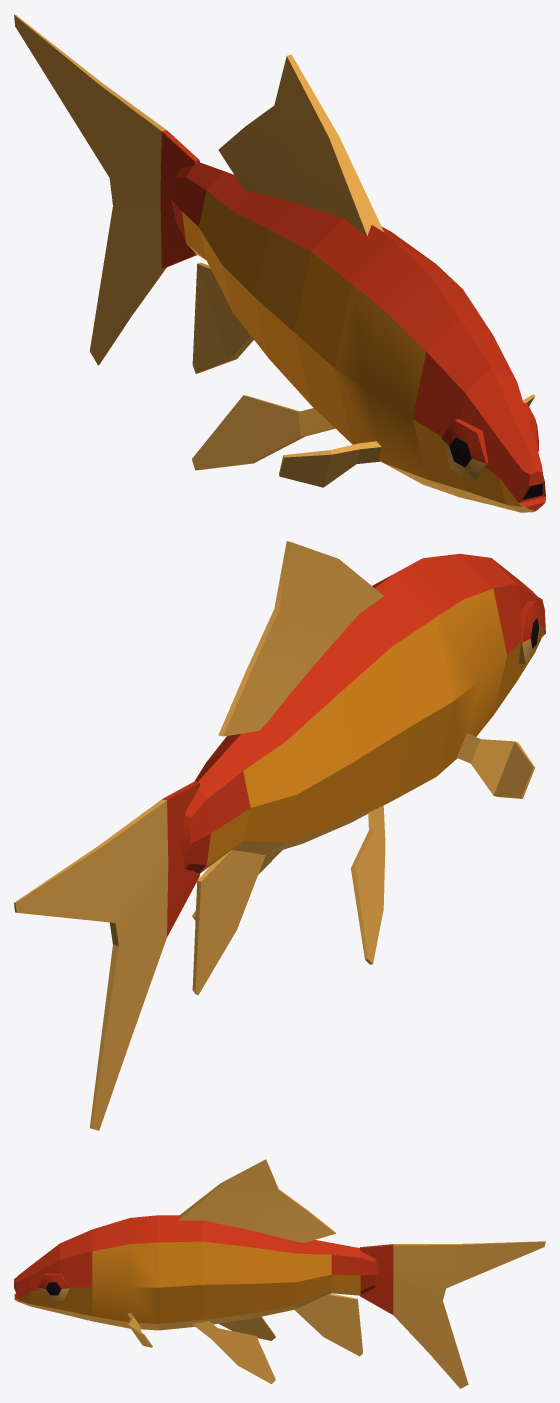
The model's file is Goldfish.glb.
3 renders of one model, top to bottom at view 1: azimuth 30°, elevation 25°; view 2: azimuth 150°, elevation 25°; view 3: azimuth 270°, elevation 25°, orthographic. The views are drawn at different scales.
Visible parts, largest first — view 1: Geo_Goldfish; view 2: Geo_Goldfish; view 3: Geo_Goldfish.
Part boxes in pixels (x1=…): Geo_Goldfish: x1=14, y1=14, x2=545, y2=512; Geo_Goldfish: x1=14, y1=541, x2=545, y2=1130; Geo_Goldfish: x1=14, y1=1159, x2=545, y2=1388.
Bounding box in the file's own units: 26.55 × 45.42 × 95.57.
Materials: 1 (1 with a texture image).
